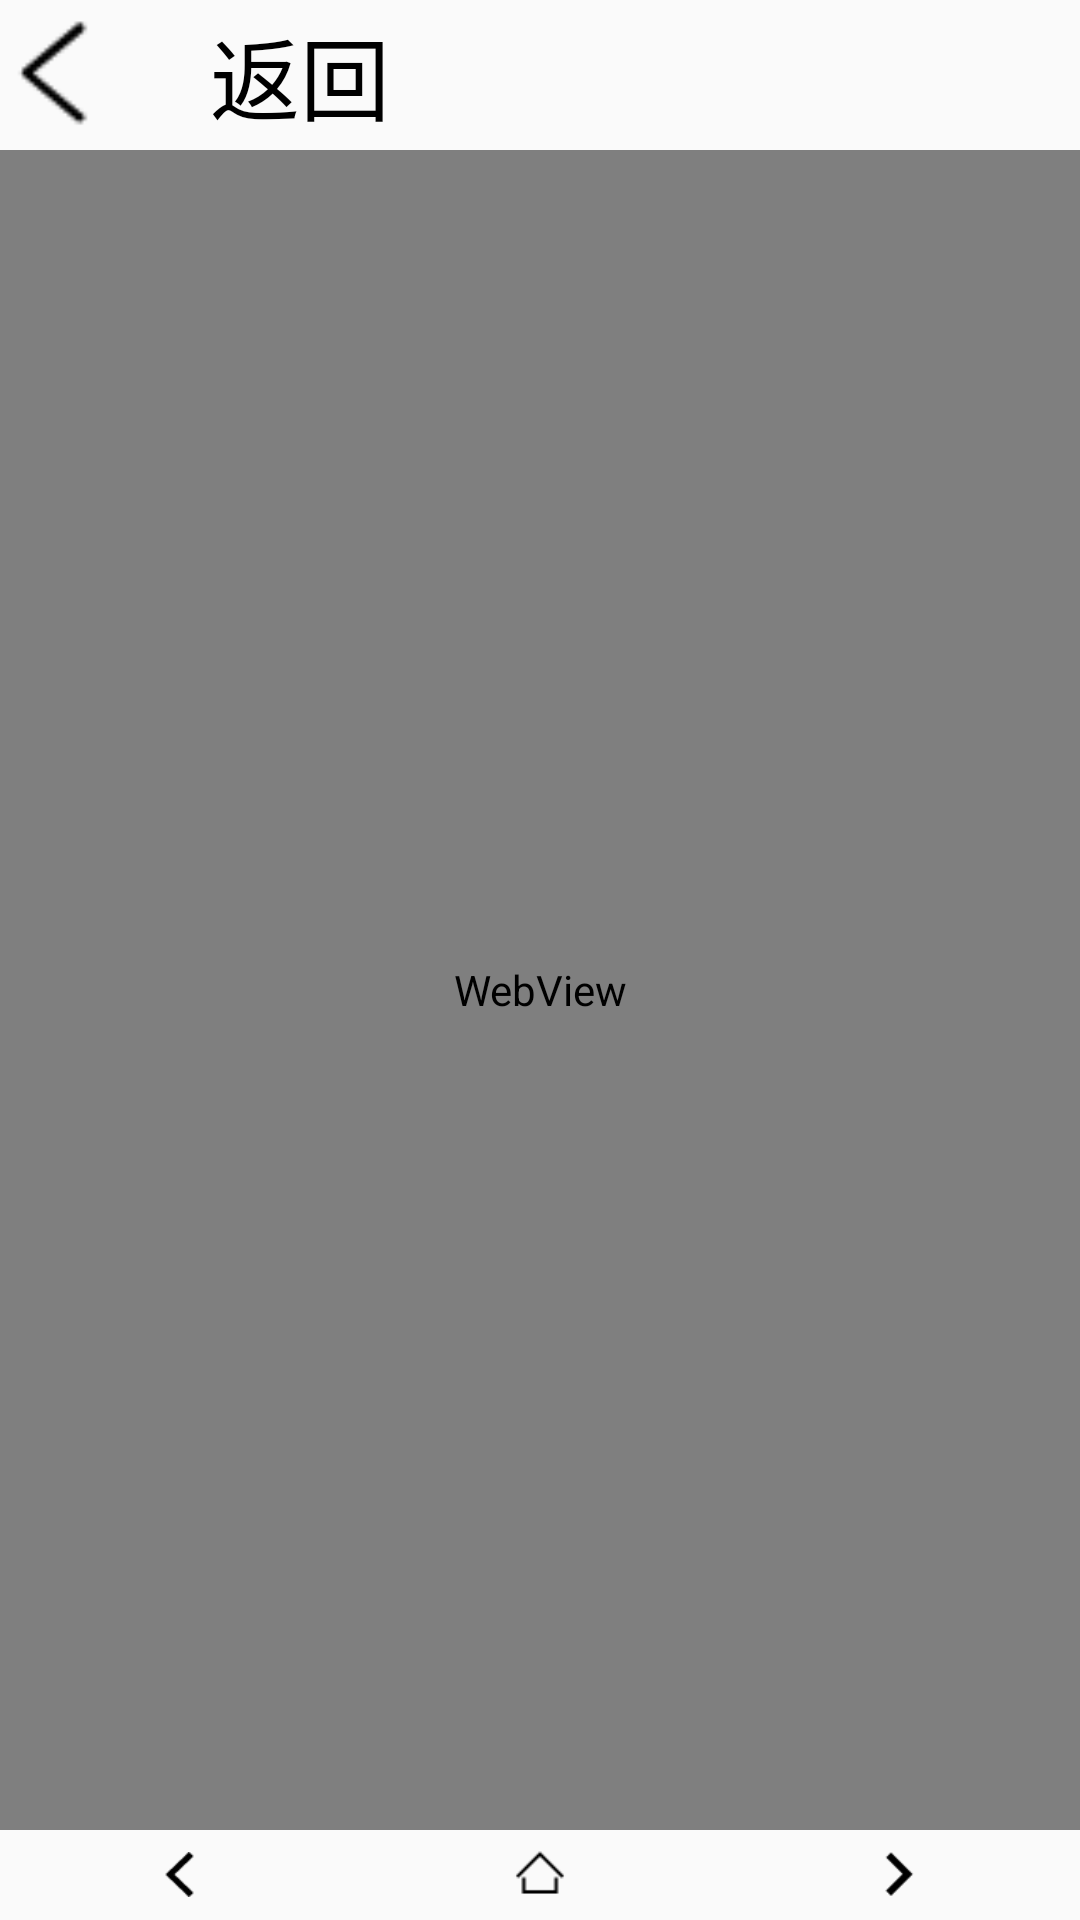

Icons on this 1080 × 1920 Android screen, each with the point to tap as (x,y):
fanhui: (53,73)
main: (540,1872)
qian: (899,1874)
tui: (179,1874)
